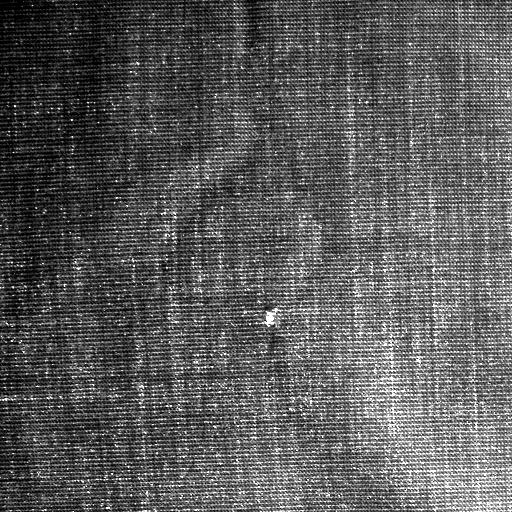fabric_hole: (248, 286, 286, 340), (264, 308, 281, 329)
